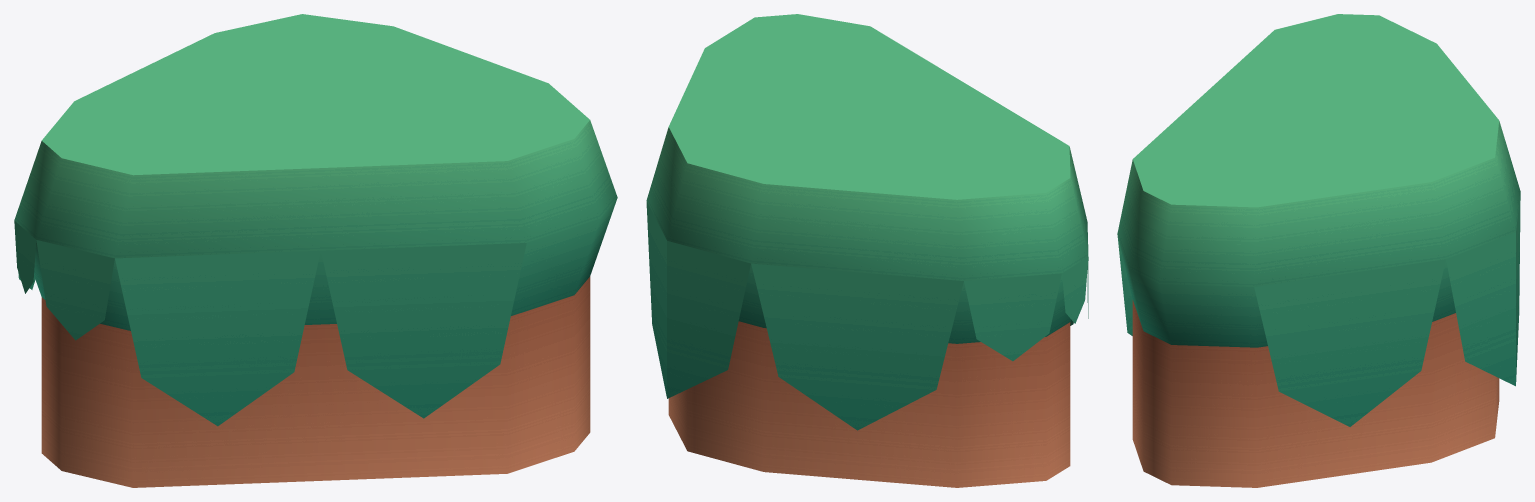
File: block-grass-corner-overhang-low.003_lev2.glb
3 views of the same model, side by side, from view 1: azimuth 30°, elevation 25°; view 2: azimuth 150°, elevation 25°; view 3: azimuth 270°, elevation 25° (orthographic). The views are drawn at different scales.
Parts seen in each view (by area): view 1: block-grass-corner-overhang-low.003_lev2; view 2: block-grass-corner-overhang-low.003_lev2; view 3: block-grass-corner-overhang-low.003_lev2.
Boxes of the visible parts, left/top/right/bottom form: block-grass-corner-overhang-low.003_lev2: left=14, top=14, right=617, bottom=487; block-grass-corner-overhang-low.003_lev2: left=646, top=14, right=1088, bottom=487; block-grass-corner-overhang-low.003_lev2: left=1117, top=14, right=1520, bottom=487.
Bounding box in the file's own units: 1.84 × 1.13 × 1.47.
Materials: 1 (1 with a texture image).
